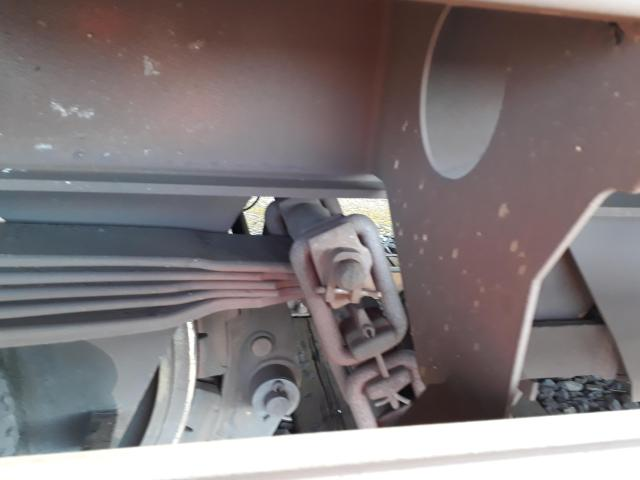blattfederww: (1, 227, 274, 349)
